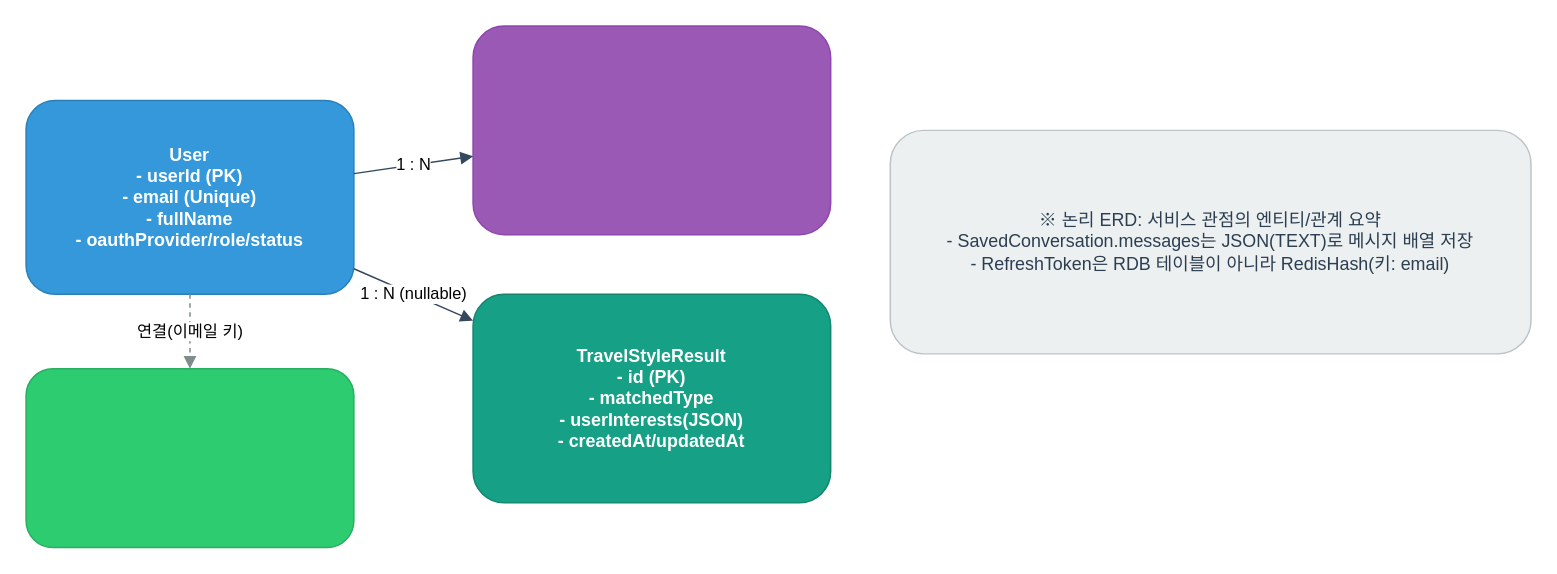
This 1557x574 diagram has some shape labels left out. Each missing label, with the box of its shape:
RefreshToken (RedisHash) - key: email - token - TTL: (25, 367, 354, 548)
SavedConversation - id (PK) - title - messages(JSON) - createdAt/updatedAt: (472, 25, 831, 235)
